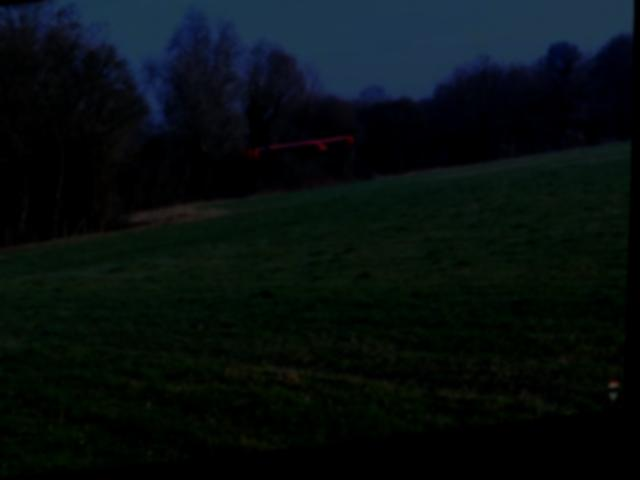uav: (242, 129, 359, 173)
